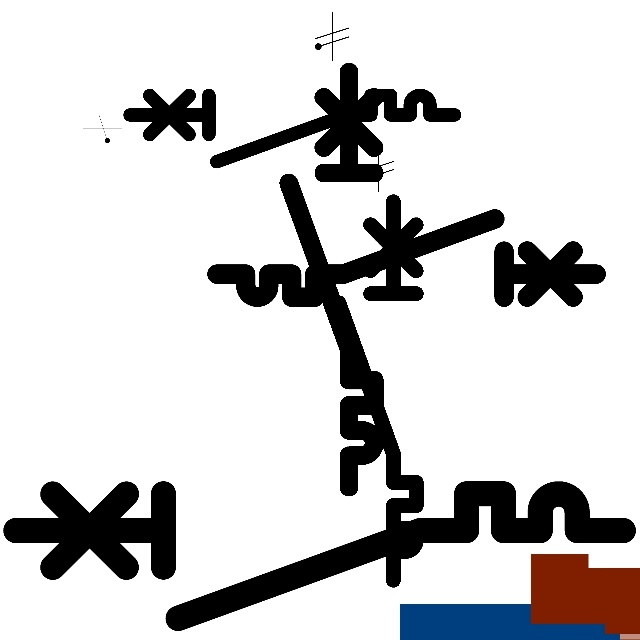interruptor_termomagnetico: (0, 478, 639, 634), (278, 61, 385, 497), (207, 209, 606, 307), (329, 192, 426, 590), (121, 87, 462, 170)
